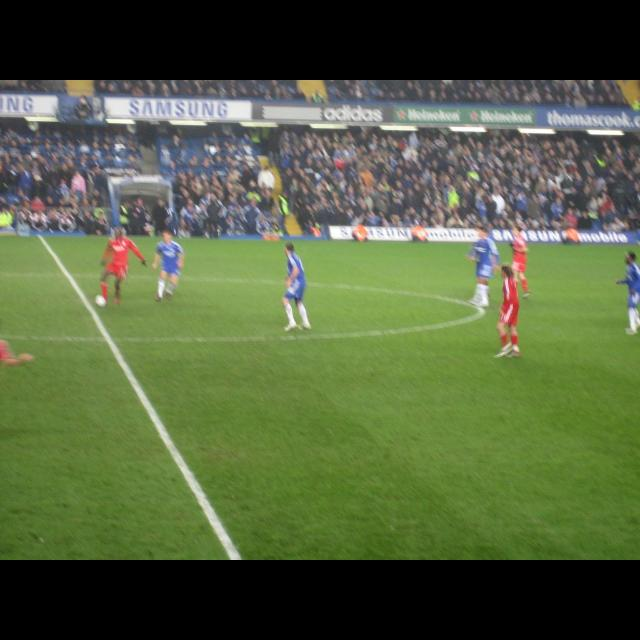Football: (95, 294, 104, 306)
